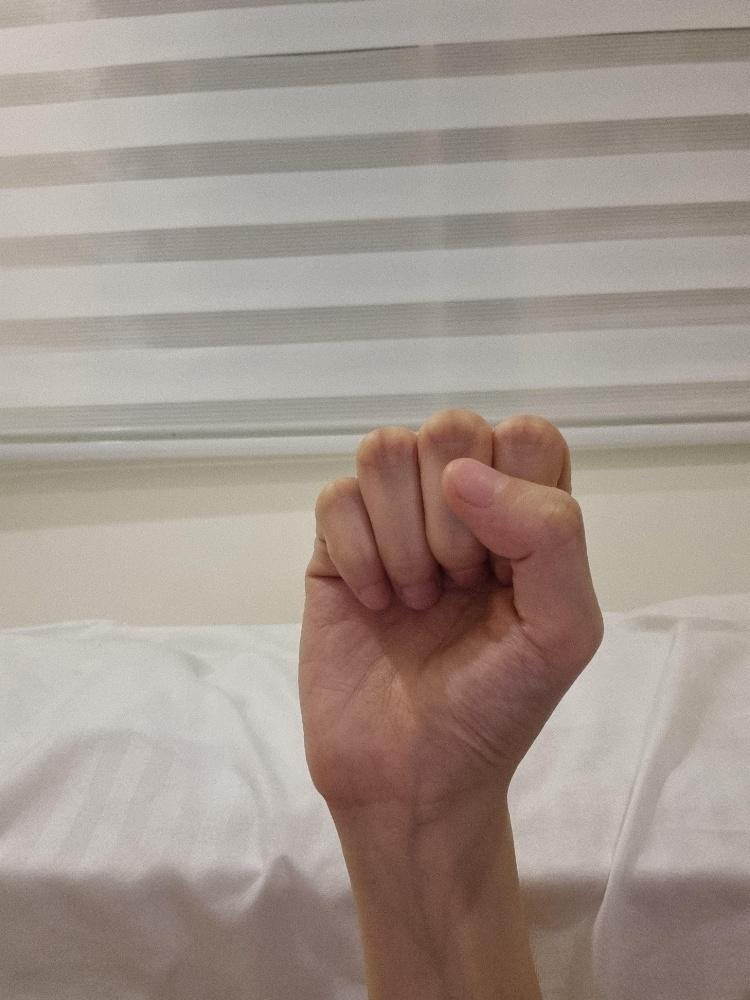s: (298, 403, 605, 806)
